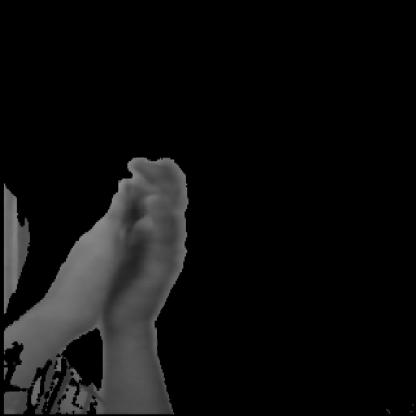clap: (53, 130, 203, 373)
